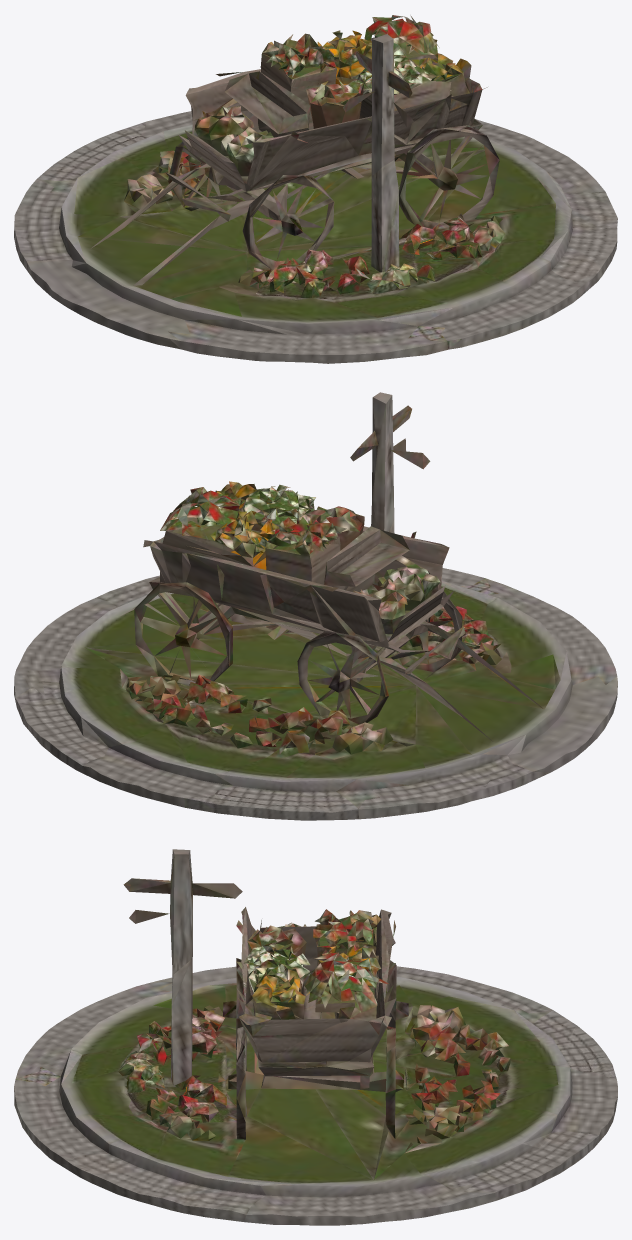
The model's file is kv_wagen.glb.
3 renders of one model, top to bottom at view 1: azimuth 30°, elevation 25°; view 2: azimuth 150°, elevation 25°; view 3: azimuth 270°, elevation 25°, orthographic.
Bounding box in the file's own units: 1.9 × 0.8607 × 1.9.
1 material, 1 textured.
